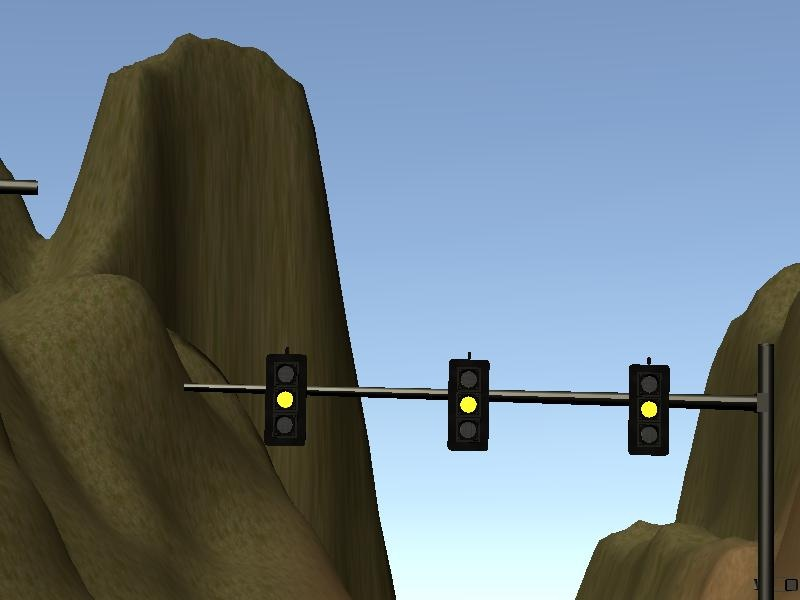YELLOW: (261, 348, 305, 448), (446, 353, 490, 453), (626, 355, 670, 455)
